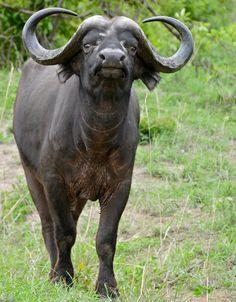Buffalo: (0, 0, 236, 290)
